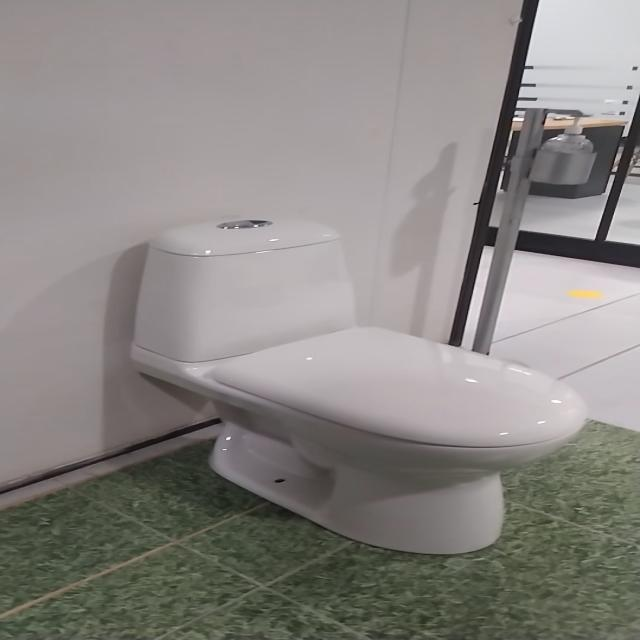toilet: (130, 210, 608, 565)
